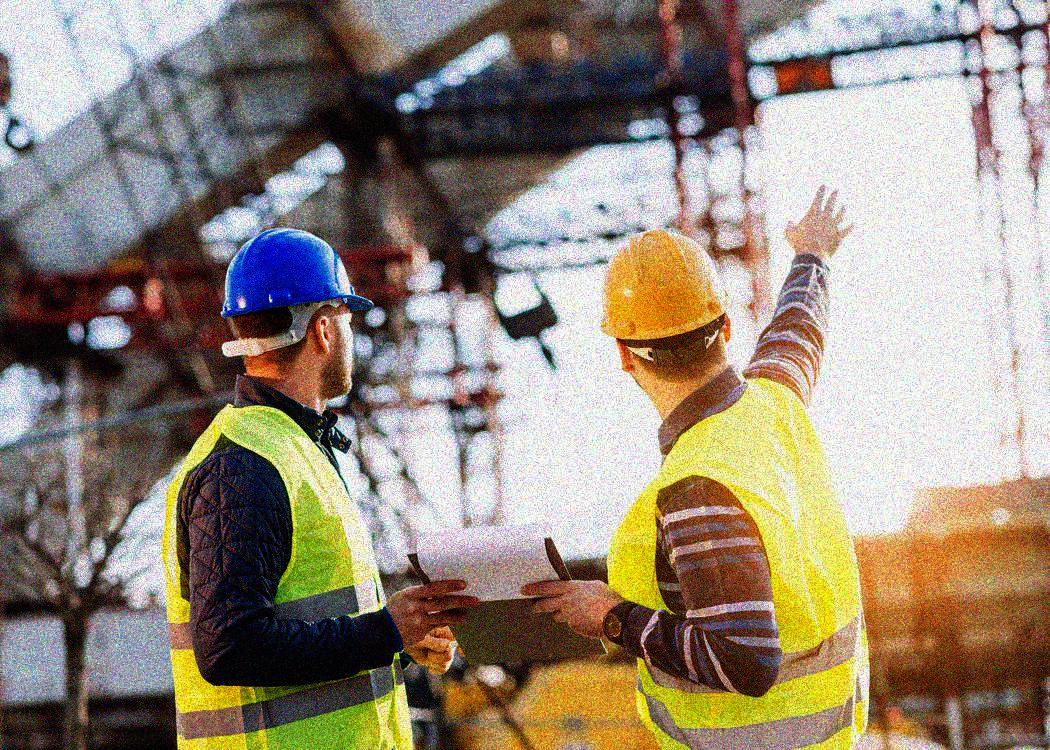helmet: (221, 228, 372, 394), (600, 227, 739, 398)
